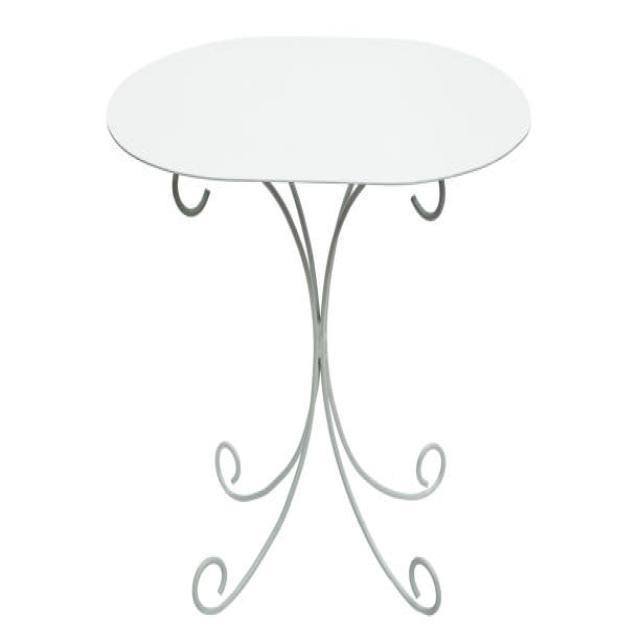table: (105, 33, 532, 616)
